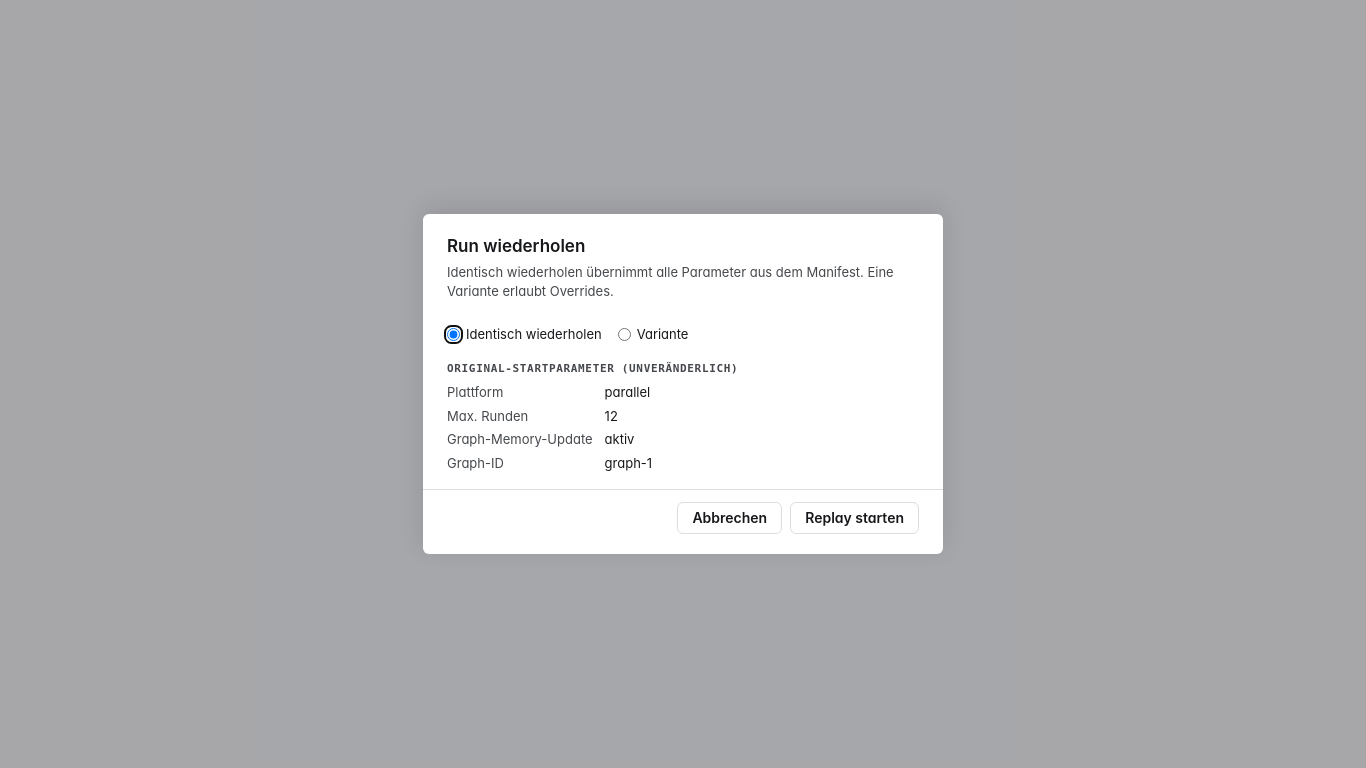
Scenario: RunReplayDialog › nutzt einen i18n-Key statt eines hartkodierten Fehlertexts
The image size is (1366, 768).
Step 1. Click the button "Replay starten" → click(855, 518), box [790,502,919,534]
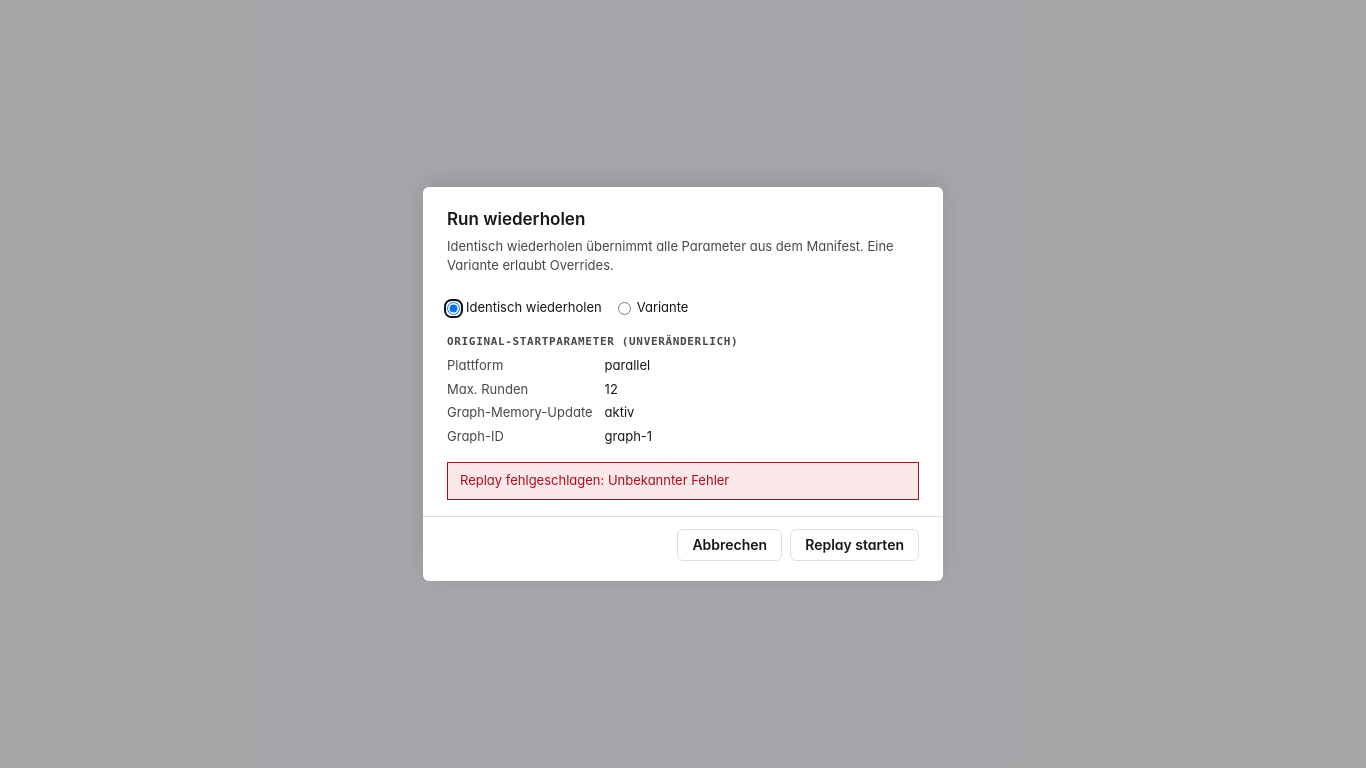
expect the text "Unbekannter Fehler" is shown: met, box [460,472,729,488]
